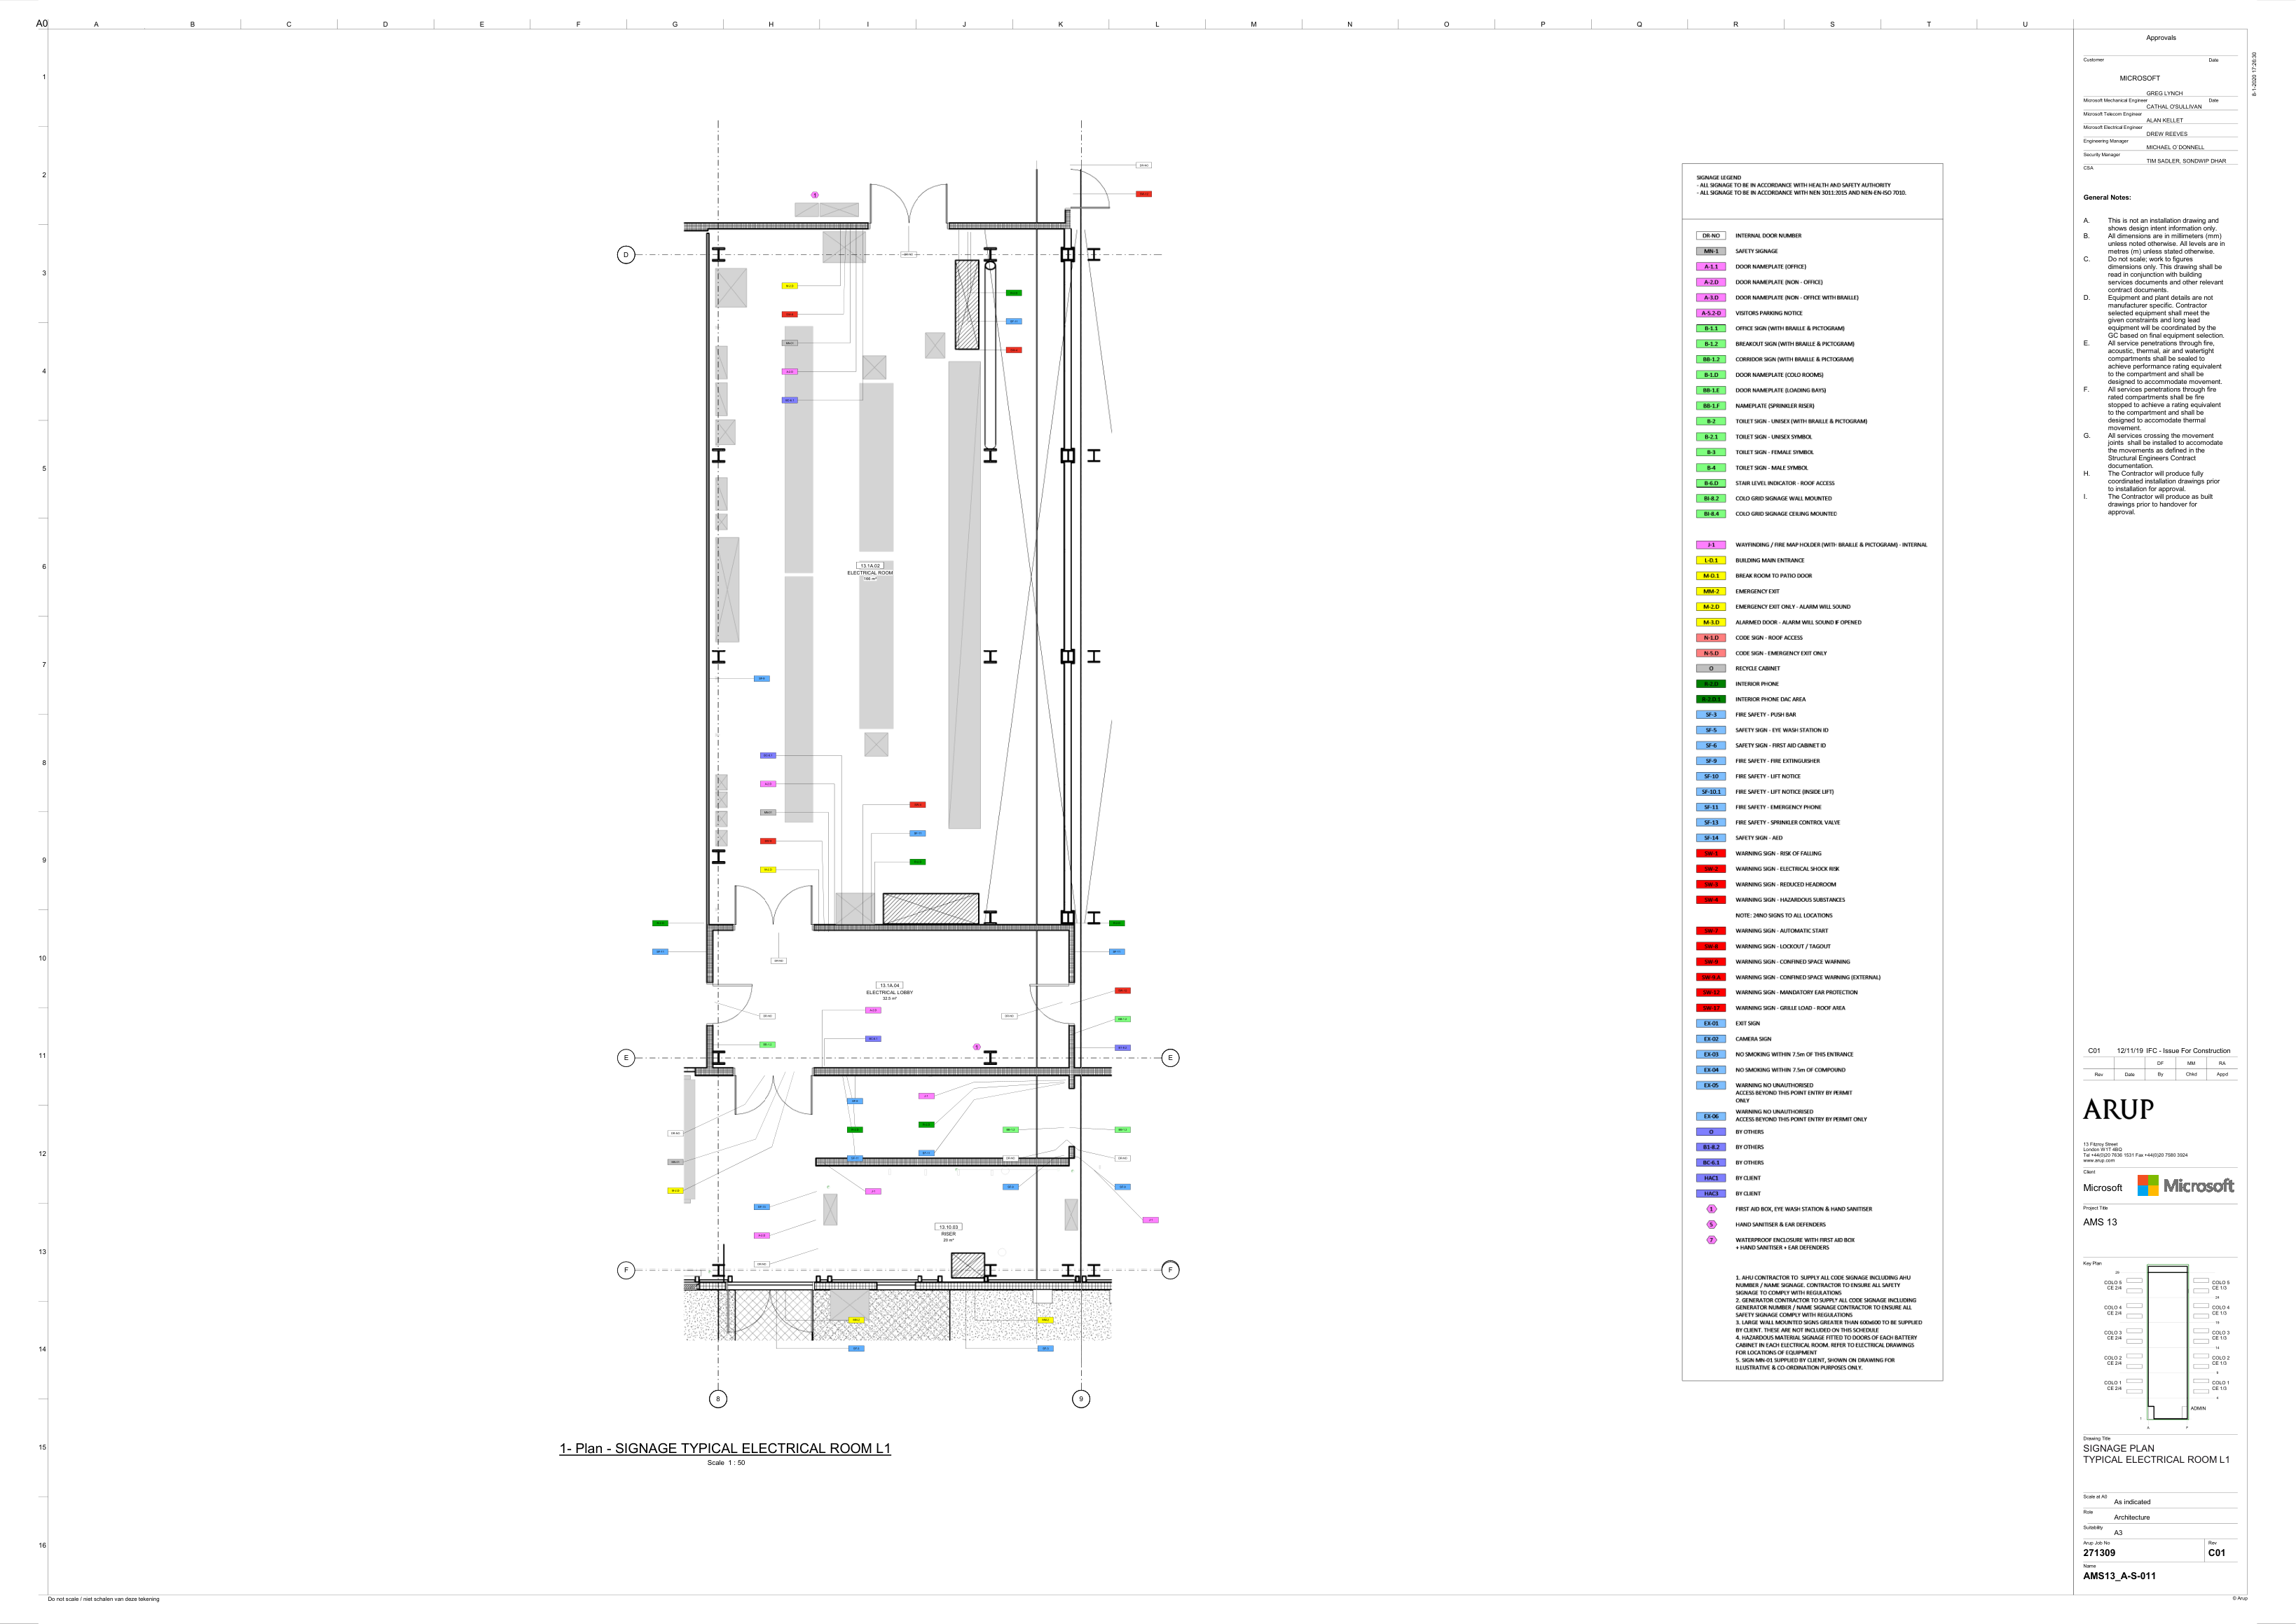Legend: (1681, 165, 1944, 1381)
